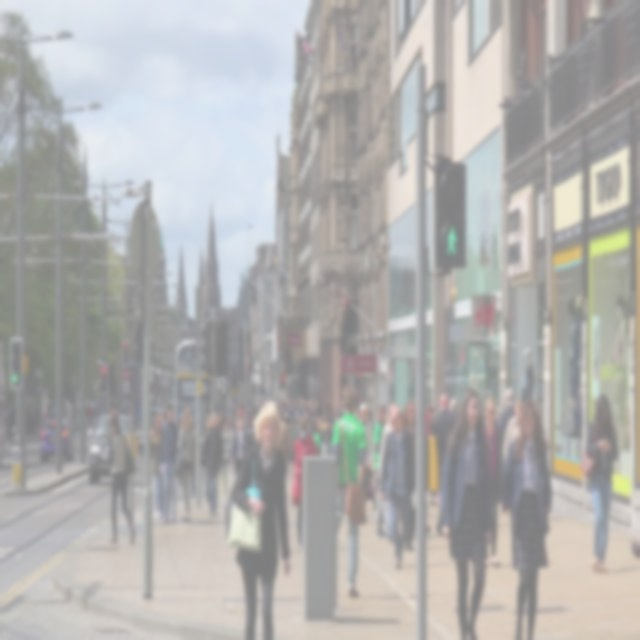pessoa: (224, 398, 294, 638), (438, 386, 498, 638), (500, 397, 554, 639), (327, 380, 369, 600), (576, 386, 620, 582), (378, 404, 414, 571), (104, 408, 140, 551), (291, 410, 321, 554), (481, 396, 505, 568), (608, 290, 632, 450), (565, 291, 587, 438), (432, 392, 458, 515), (157, 401, 180, 524), (377, 402, 397, 542), (436, 403, 456, 538), (498, 385, 516, 516), (401, 397, 416, 552), (202, 407, 222, 520), (300, 392, 345, 442), (204, 410, 224, 522), (176, 402, 194, 526), (356, 403, 376, 508), (200, 411, 220, 508), (500, 398, 524, 466), (513, 342, 542, 398), (372, 402, 387, 510), (148, 412, 162, 522), (273, 402, 294, 469), (156, 409, 168, 522), (230, 416, 250, 476), (232, 392, 264, 428), (186, 407, 197, 505), (280, 393, 300, 423), (318, 414, 334, 446), (311, 414, 323, 456), (86, 398, 97, 426), (426, 406, 434, 434), (448, 396, 458, 414)
